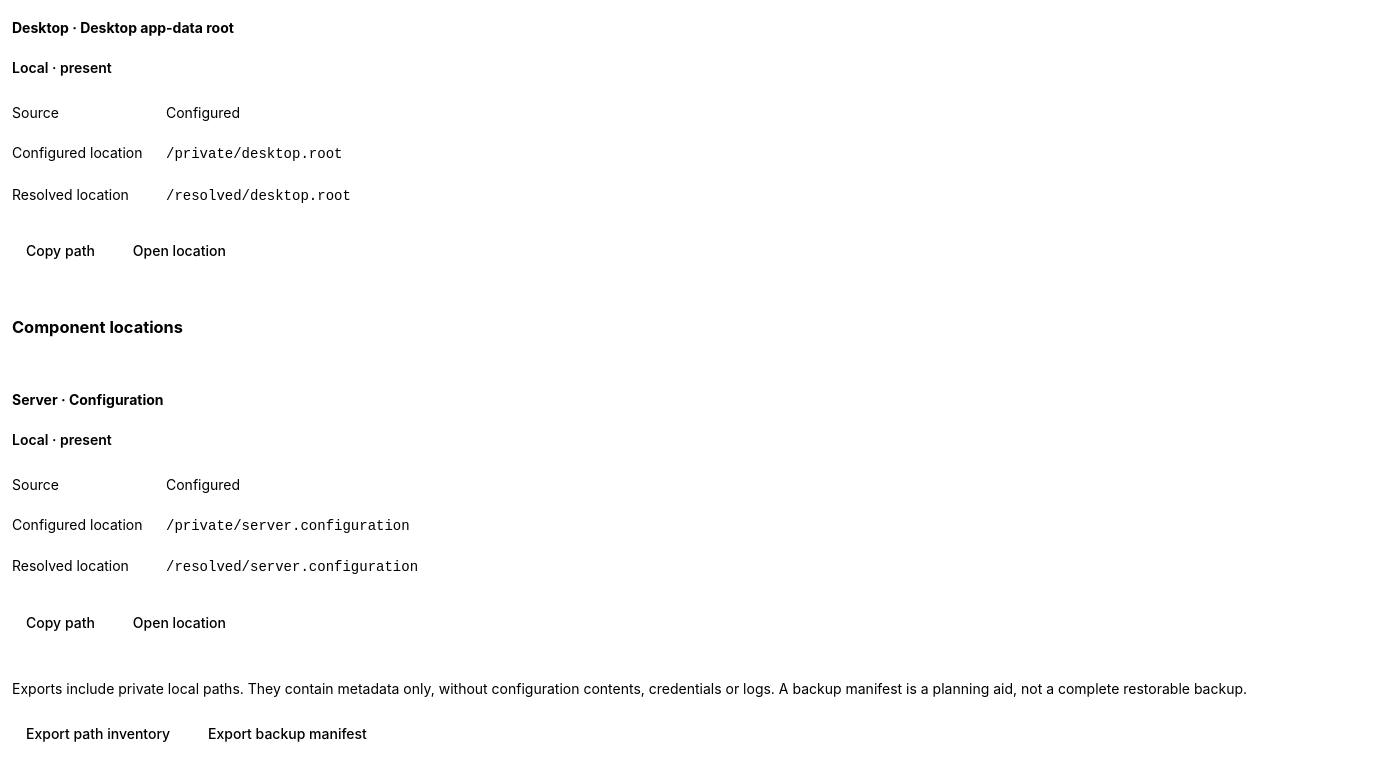
Test case: configuration location observations › shows the privacy notice before native picker export and sends no file contents
This screenshot has width=1378, height=767.
(page scrolled)
Expected: the text "Exports include private local paths" is shown, [12, 680, 1247, 697]
Click the button "Export backup manifest": {"x": 288, "y": 733} [194, 713, 381, 753]
(page scrolled)
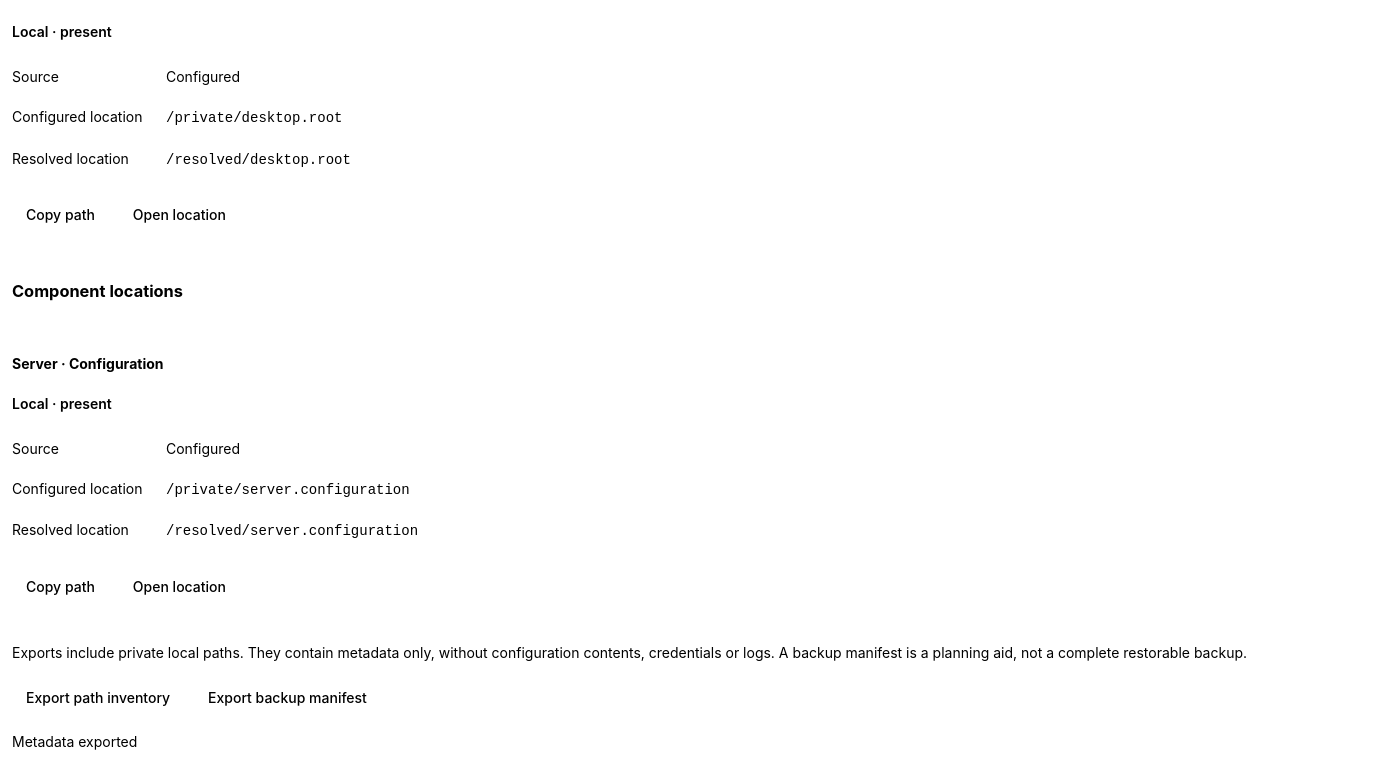
Expected: the text "Metadata exported" is shown, [12, 733, 137, 750]
